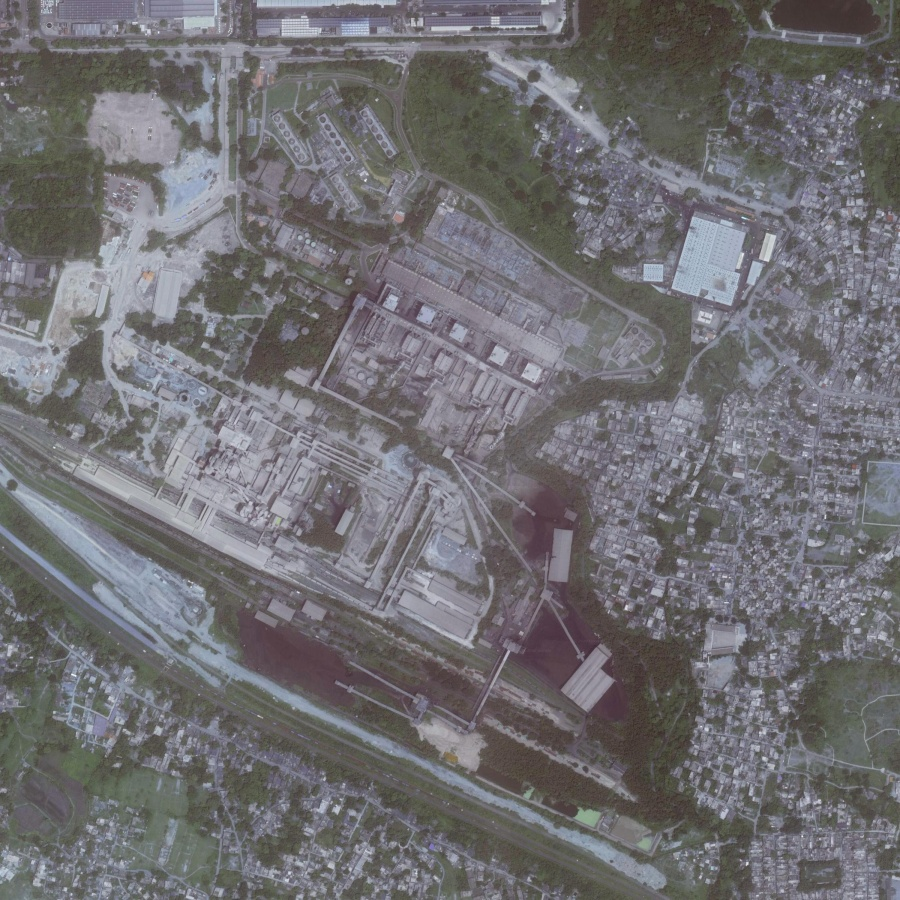PowerPlant: (158, 272, 664, 730)
